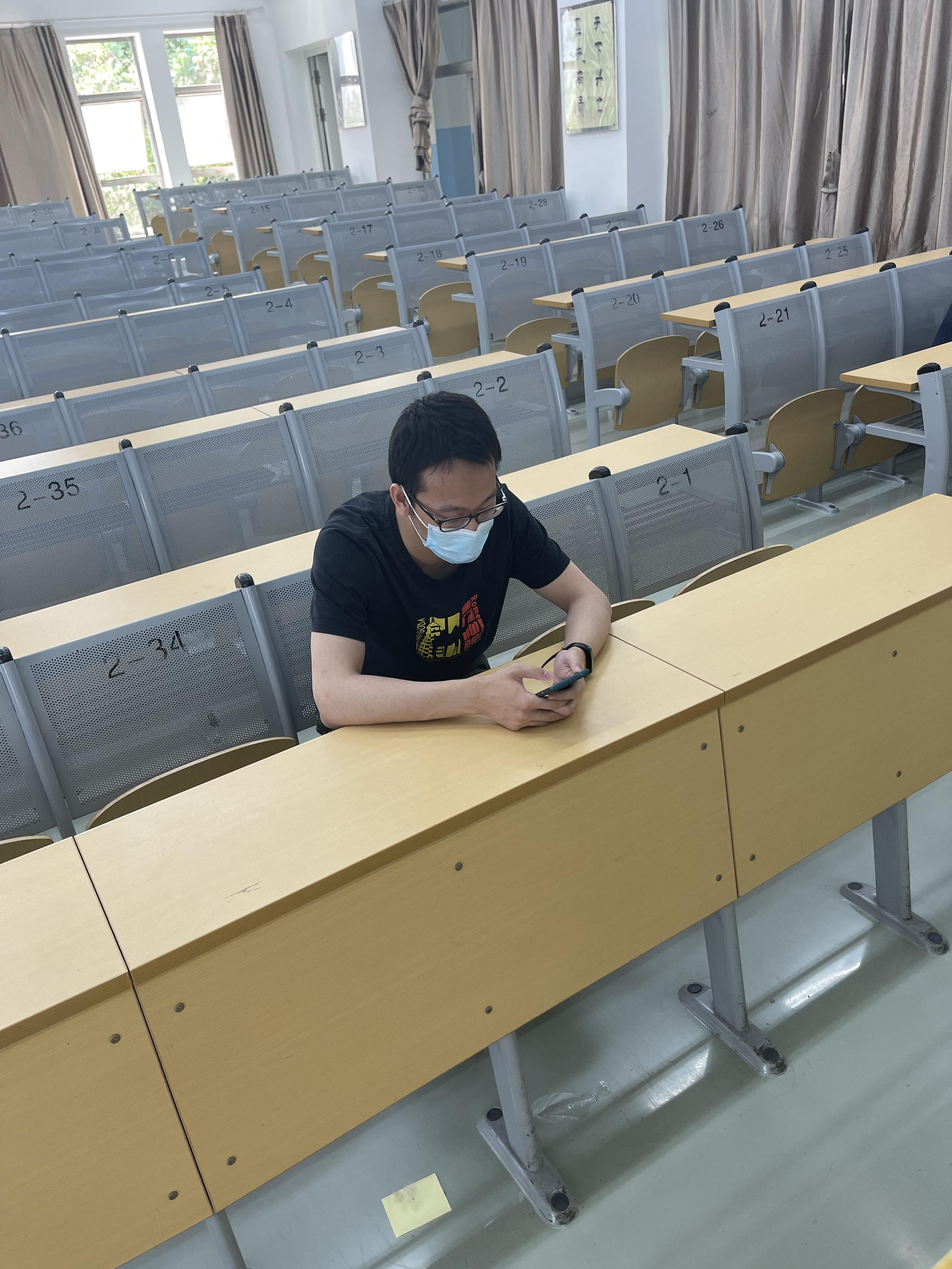phone: (313, 394, 612, 732)
